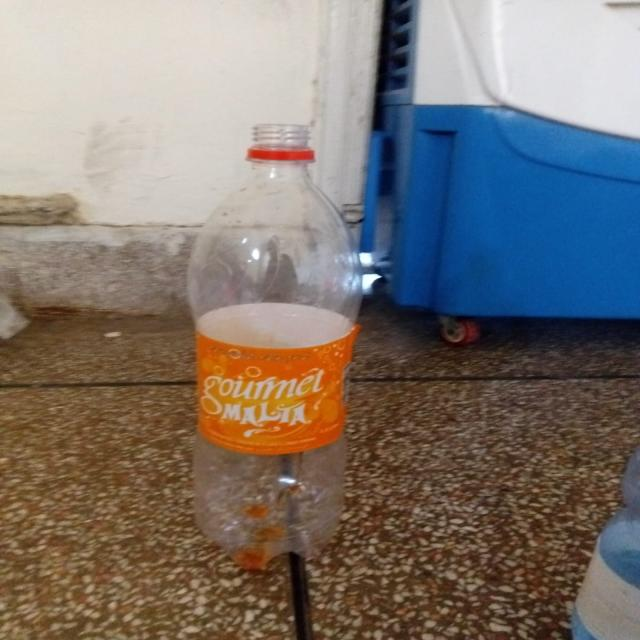bottle: (176, 117, 377, 578)
label: (191, 318, 358, 466)
